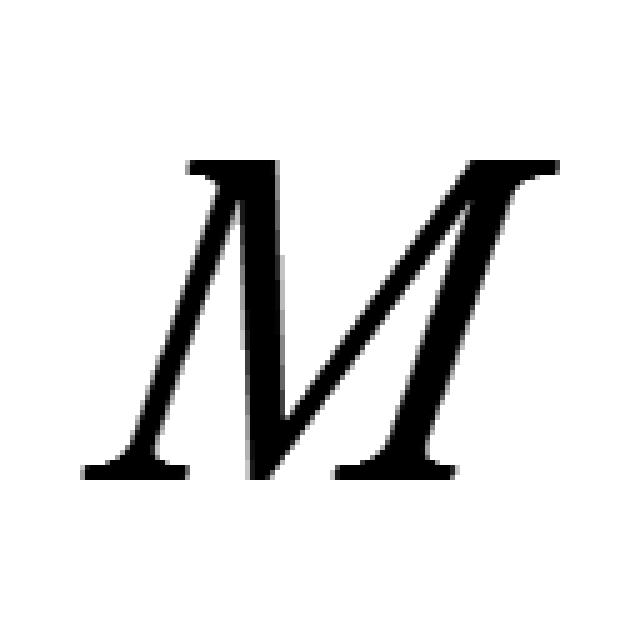M: (72, 150, 544, 490)
